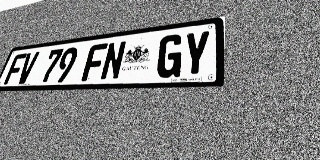7: (39, 49, 64, 83)
9: (53, 47, 79, 82)
F: (81, 43, 108, 81), (3, 53, 27, 85)
G: (155, 33, 184, 78)
N: (99, 41, 127, 81)
V: (15, 52, 40, 84)
Y: (181, 30, 211, 77)
